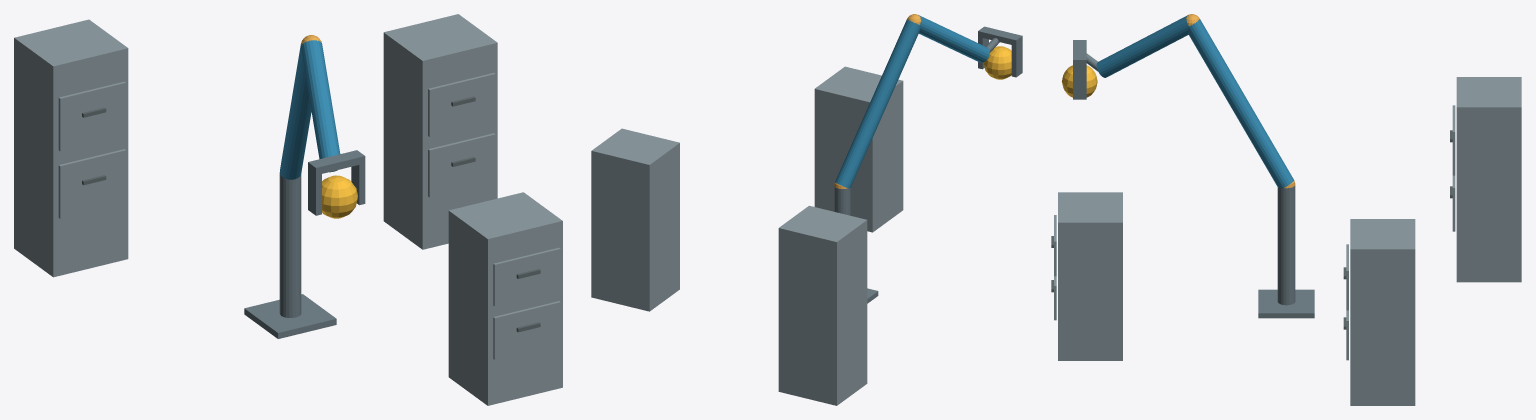
The picture shows the model from 3 angles, left to right: view 1: azimuth 30°, elevation 25°; view 2: azimuth 150°, elevation 25°; view 3: azimuth 270°, elevation 25°; orthographic projection. The views are drawn at different scales.
Parts seen in each view (by area): view 1: cabinet_3 body, cabinet_2 body, cabinet_1 body, cabinet_3 drawer front.001, cabinet_3 drawer front, cabinet_2 drawer front, cabinet_2 drawer front.001, fixed post, cabinet_1 drawer front, cabinet_1 drawer front.001, moving link 2, moving link 1 (+5 smaller); view 2: cabinet_3 body, cabinet_2 body, cabinet_1 body, moving link 1, moving link 2, ball ball_1, gripper bridge, fixed post; view 3: cabinet_3 body, cabinet_2 body, cabinet_1 body, moving link 1, fixed post, moving link 2, pedestal, ball ball_1, gripper finger 1.
Boxes of the visible parts, <box> form: cabinet_3 body: <box>14,19,128,277</box>; cabinet_2 body: <box>383,14,497,249</box>; cabinet_1 body: <box>448,192,562,405</box>; cabinet_3 drawer front.001: <box>58,81,126,151</box>; cabinet_3 drawer front: <box>58,149,126,218</box>; cabinet_2 drawer front: <box>428,133,495,197</box>; cabinet_2 drawer front.001: <box>428,73,495,136</box>; fixed post: <box>279,172,301,317</box>; cabinet_1 drawer front: <box>493,301,560,359</box>; cabinet_1 drawer front.001: <box>493,247,560,306</box>; moving link 2: <box>301,40,340,172</box>; moving link 1: <box>280,43,311,179</box>; cabinet_3 body: <box>778,205,867,405</box>; cabinet_2 body: <box>591,128,679,311</box>; cabinet_1 body: <box>814,66,903,232</box>; moving link 1: <box>835,19,920,188</box>; moving link 2: <box>918,15,989,62</box>; ball ball_1: <box>983,46,1011,79</box>; gripper bridge: <box>978,26,1022,45</box>; fixed post: <box>834,187,850,215</box>; cabinet_3 body: <box>1456,77,1521,282</box>; cabinet_2 body: <box>1350,219,1415,405</box>; cabinet_1 body: <box>1058,192,1122,360</box>; moving link 1: <box>1188,19,1294,188</box>; fixed post: <box>1277,185,1295,305</box>; moving link 2: <box>1096,15,1188,77</box>; pedestal: <box>1258,289,1314,318</box>; ball ball_1: <box>1062,65,1097,97</box>; gripper finger 1: <box>1073,66,1086,99</box>.
Bounding box in the file's own units: 1.62 × 1.36 × 2.1.
